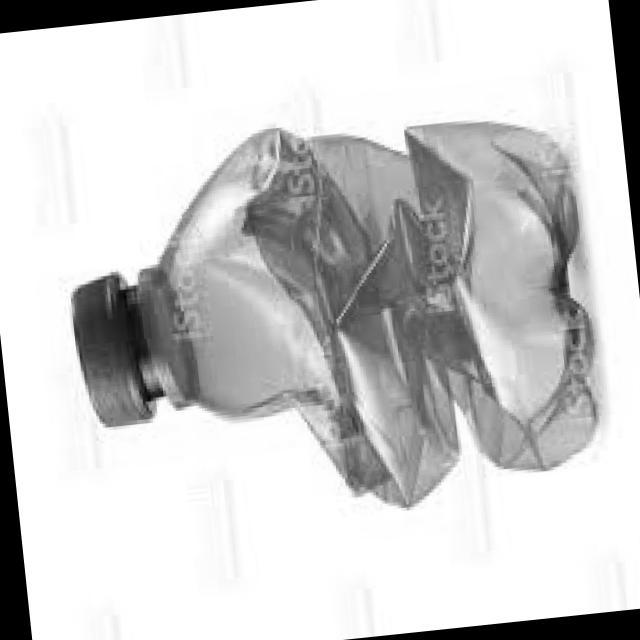defected: (33, 94, 611, 544)
